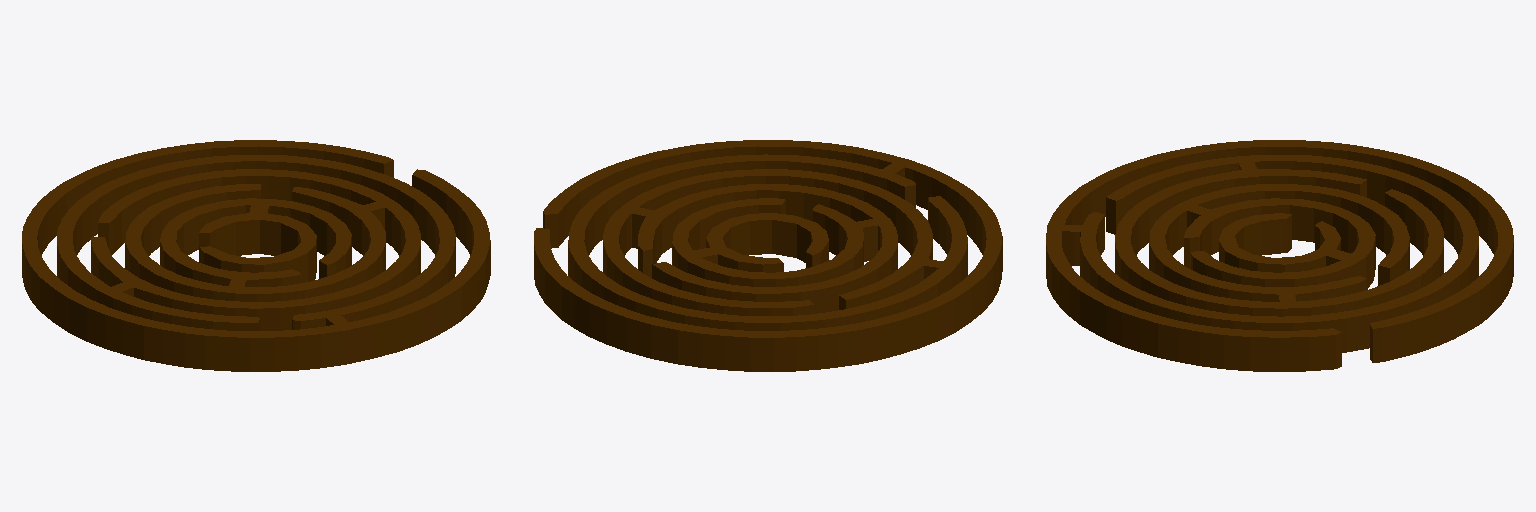
File: maze3.obj
The picture shows the model from 3 angles: view 1: azimuth 30°, elevation 25°; view 2: azimuth 150°, elevation 25°; view 3: azimuth 270°, elevation 25°; orthographic projection.
Parts seen in each view (by area): view 1: maze1; view 2: maze1; view 3: maze1.
Boxes of the visible parts, <box> form: maze1: <box>22,140,490,371</box>; maze1: <box>534,140,1002,371</box>; maze1: <box>1046,140,1513,371</box>.
Size of the model in its own units: 26.1 by 2.11 by 26.13.